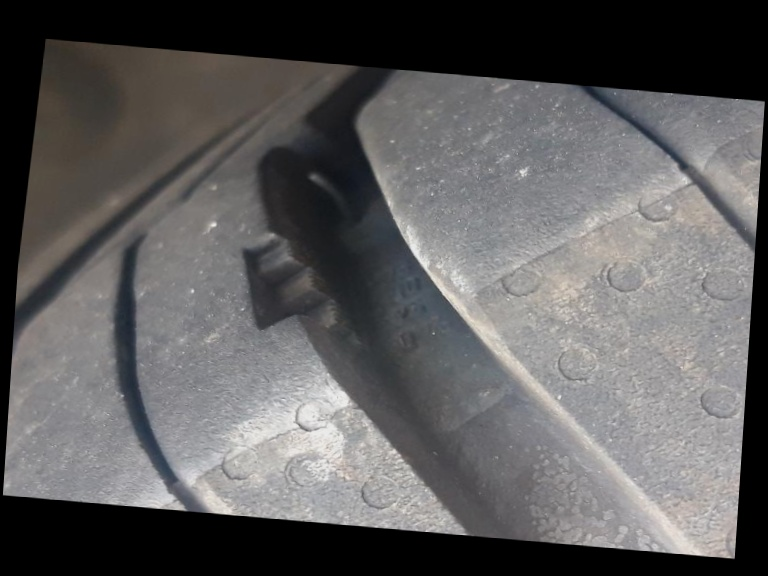temoin:90: (219, 207, 407, 364)
